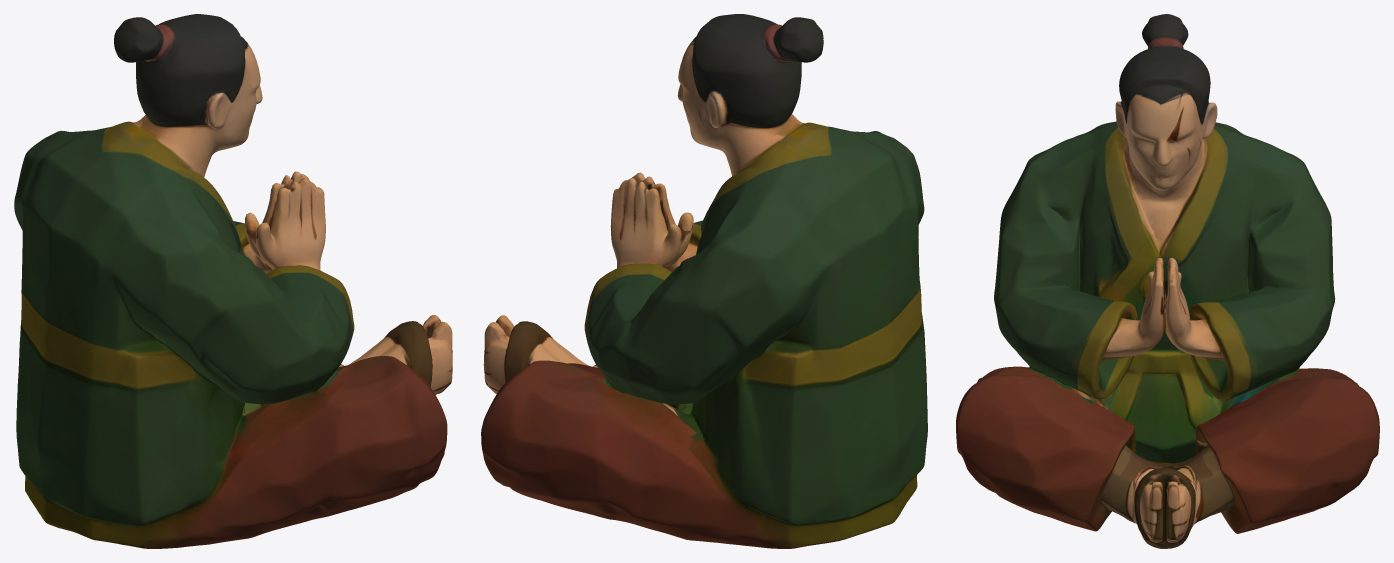
The picture shows the model from 3 angles, left to right: view 1: azimuth 30°, elevation 25°; view 2: azimuth 150°, elevation 25°; view 3: azimuth 270°, elevation 25°; orthographic projection. The views are drawn at different scales.
Visible parts, largest first — view 1: node_a0d6cc21_5b7d_4938_a238_989407242e3c_mesh0; view 2: node_a0d6cc21_5b7d_4938_a238_989407242e3c_mesh0; view 3: node_a0d6cc21_5b7d_4938_a238_989407242e3c_mesh0.
Boxes of the visible parts, <box> form: node_a0d6cc21_5b7d_4938_a238_989407242e3c_mesh0: <box>14,14,452,548</box>; node_a0d6cc21_5b7d_4938_a238_989407242e3c_mesh0: <box>481,14,927,548</box>; node_a0d6cc21_5b7d_4938_a238_989407242e3c_mesh0: <box>956,14,1379,548</box>.
Size of the model in its own units: 81.76 by 94.47 by 82.1.
Materials: 1 (1 with a texture image).
